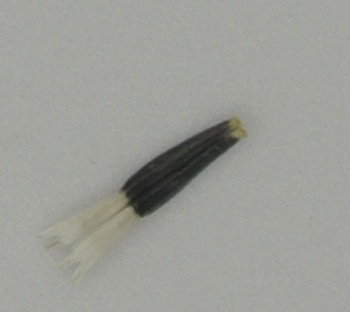เมล็ดดีติดกัน: (41, 112, 251, 283)
